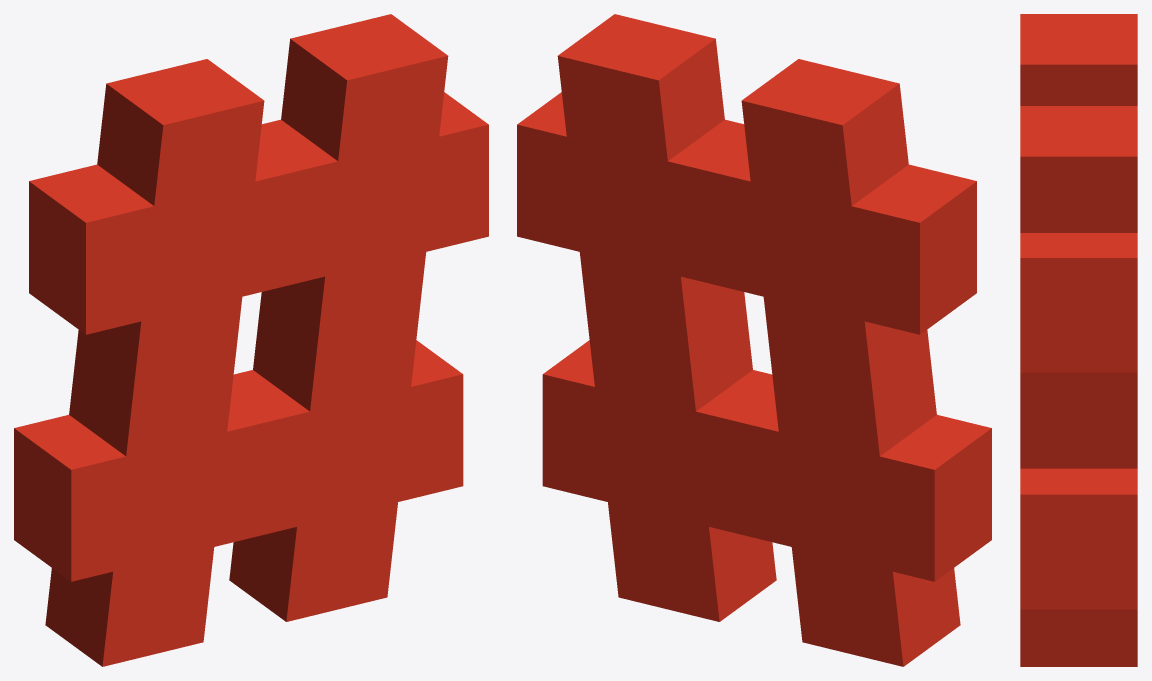
The model's file is Icon_Symbol_Hash.fbx.
The picture shows the model from 3 angles, left to right: view 1: azimuth 30°, elevation 25°; view 2: azimuth 150°, elevation 25°; view 3: azimuth 270°, elevation 25°; orthographic projection. The views are drawn at different scales.
Visible parts, largest first — view 1: Icon_Symbol_Hash; view 2: Icon_Symbol_Hash; view 3: Icon_Symbol_Hash.
Part boxes in pixels (bbox=[...]): Icon_Symbol_Hash: bbox=[14, 14, 488, 666]; Icon_Symbol_Hash: bbox=[517, 14, 991, 666]; Icon_Symbol_Hash: bbox=[1020, 14, 1137, 666].
Bounding box in the file's own units: 50.98 × 61.44 × 12.06.
